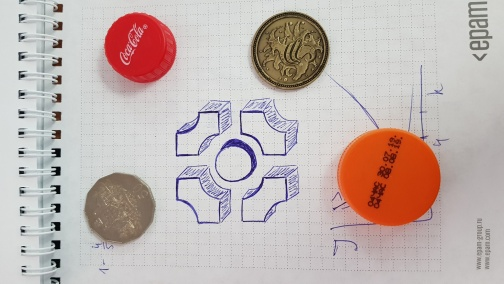coin: (251, 10, 330, 90), (85, 172, 155, 243)
